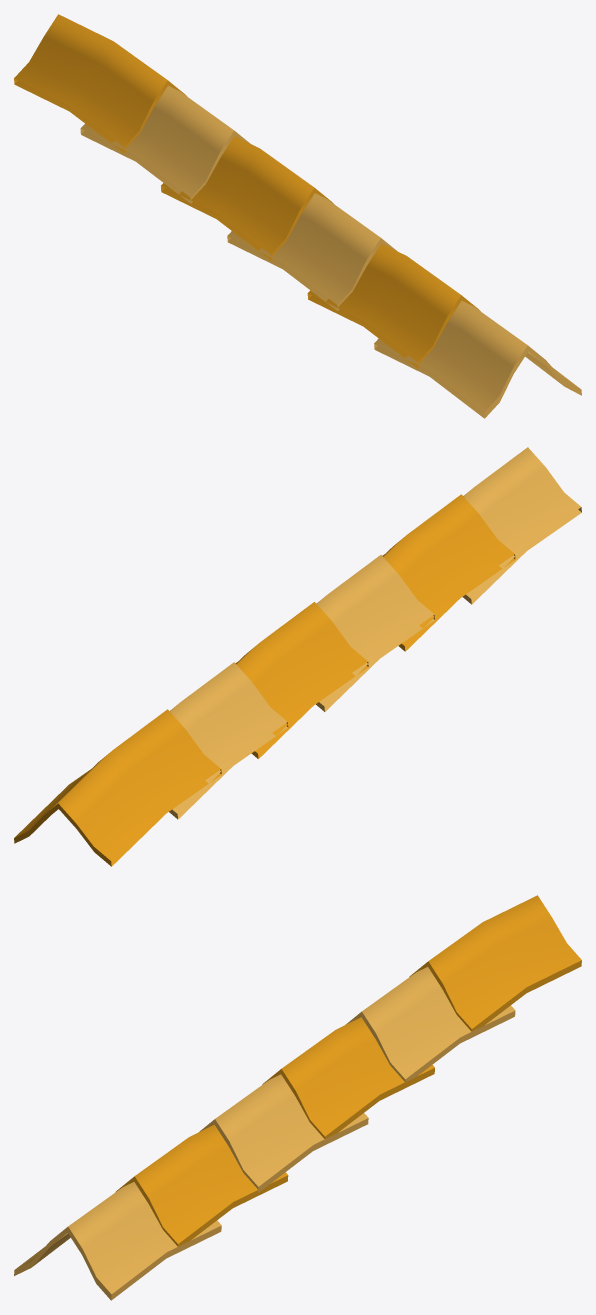
File: krov_zavrsetak.FBX
3 renders of one model, top to bottom at view 1: azimuth 30°, elevation 25°; view 2: azimuth 150°, elevation 25°; view 3: azimuth 330°, elevation 25°, orthographic.
Visible parts, largest first — view 1: krov_spoj_krakov; view 2: krov_spoj_krakov; view 3: krov_spoj_krakov.
Part boxes in pixels (left/top/right/bottom): krov_spoj_krakov: left=14, top=14, right=581, bottom=418; krov_spoj_krakov: left=14, top=447, right=581, bottom=866; krov_spoj_krakov: left=14, top=895, right=581, bottom=1300.
Bounding box in the file's own units: 50.53 × 35.5 × 428.
